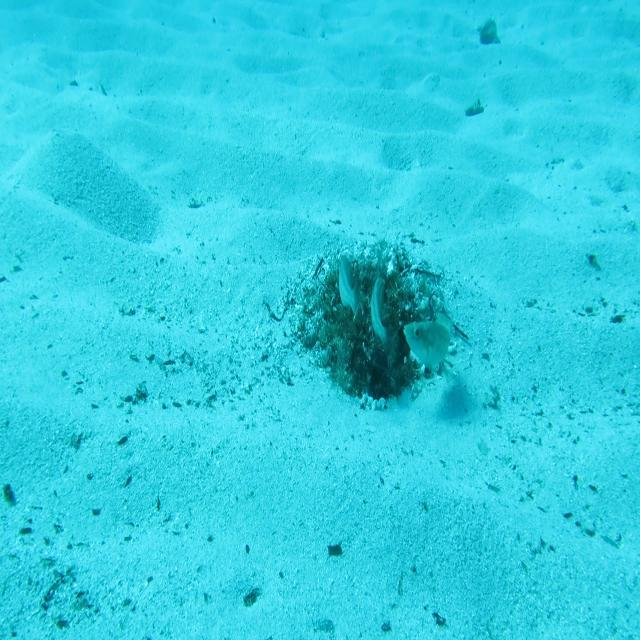BEND: (402, 309, 454, 372)
female: (370, 278, 399, 367), (338, 254, 366, 327)
nest: (285, 232, 458, 416)
vegetation: (476, 15, 499, 46), (465, 98, 484, 120), (326, 542, 345, 562), (242, 588, 261, 608)
